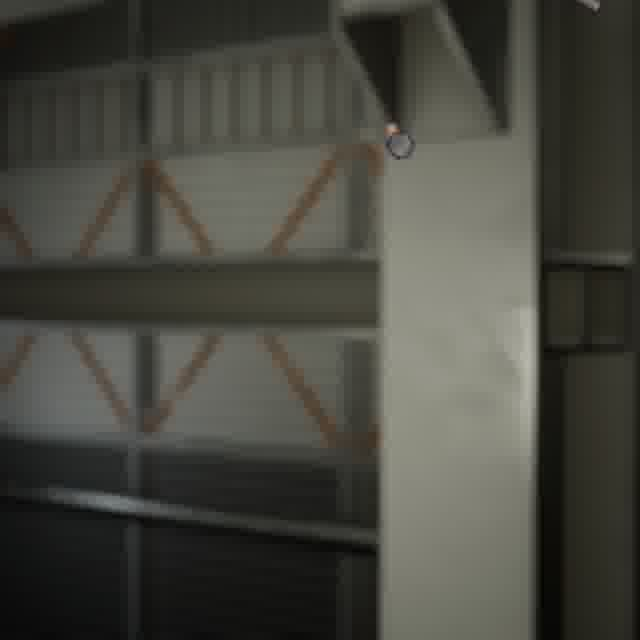bolt: (381, 118, 419, 162)
